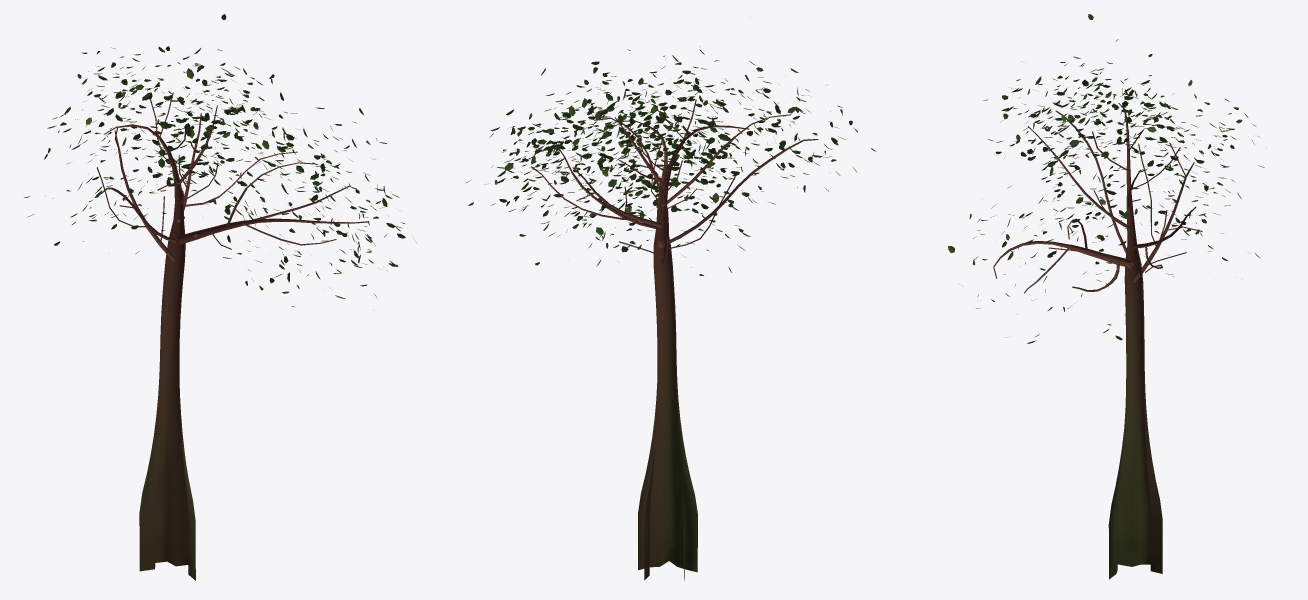
File: SM_Tree_garden_tree_0.glb
The picture shows the model from 3 angles, left to right: view 1: azimuth 30°, elevation 25°; view 2: azimuth 150°, elevation 25°; view 3: azimuth 270°, elevation 25°; orthographic projection. The views are drawn at different scales.
Visible parts, largest first — view 1: SM_Tree_garden_tree_0; view 2: SM_Tree_garden_tree_0; view 3: SM_Tree_garden_tree_0.
Part boxes in pixels (x1=…): SM_Tree_garden_tree_0: x1=24, y1=14, x2=416, y2=580; SM_Tree_garden_tree_0: x1=466, y1=46, x2=876, y2=580; SM_Tree_garden_tree_0: x1=948, y1=14, x2=1264, y2=579.
Bounding box in the file's own units: 4.49 × 6.45 × 4.27.
